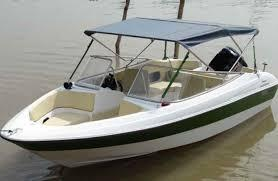Ship: (1, 18, 278, 166)
